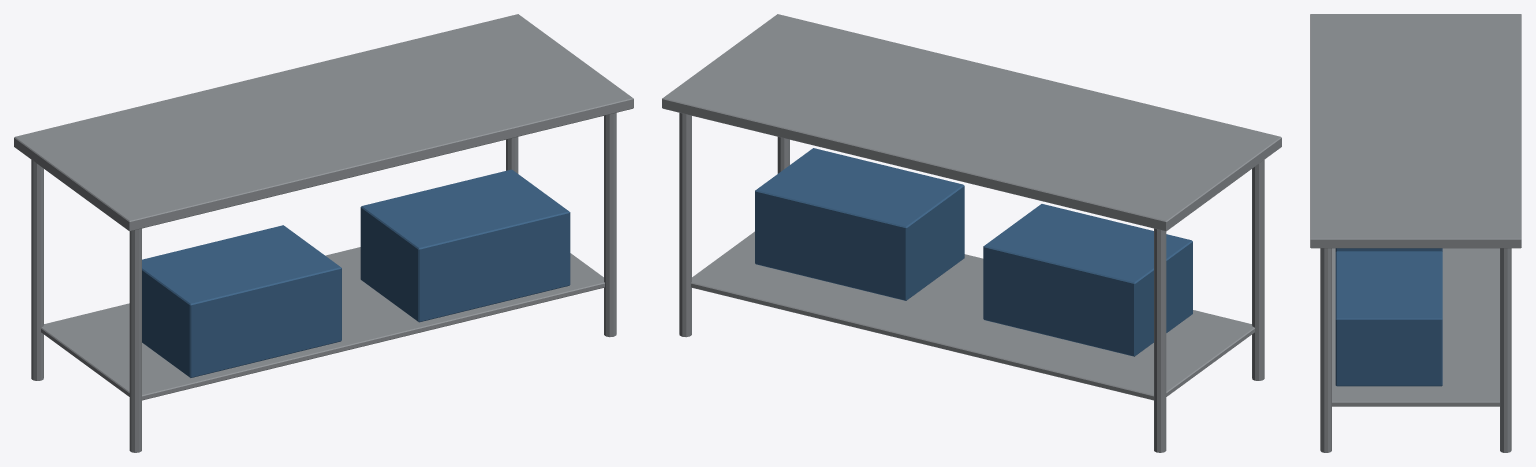
The model's file is prop_packing_table_steel.glb.
3 renders of one model, left to right at view 1: azimuth 30°, elevation 25°; view 2: azimuth 150°, elevation 25°; view 3: azimuth 270°, elevation 25°, orthographic. The views are drawn at different scales.
Parts seen in each view (by area): view 1: Table; view 2: Table; view 3: Table.
Part boxes in pixels (x1,y1,x2,y2): Table: (14,14,633,452); Table: (662,14,1281,452); Table: (1310,14,1521,452).
Size of what is drawn, in the model's own units: 1.99 by 0.9 by 0.79.
